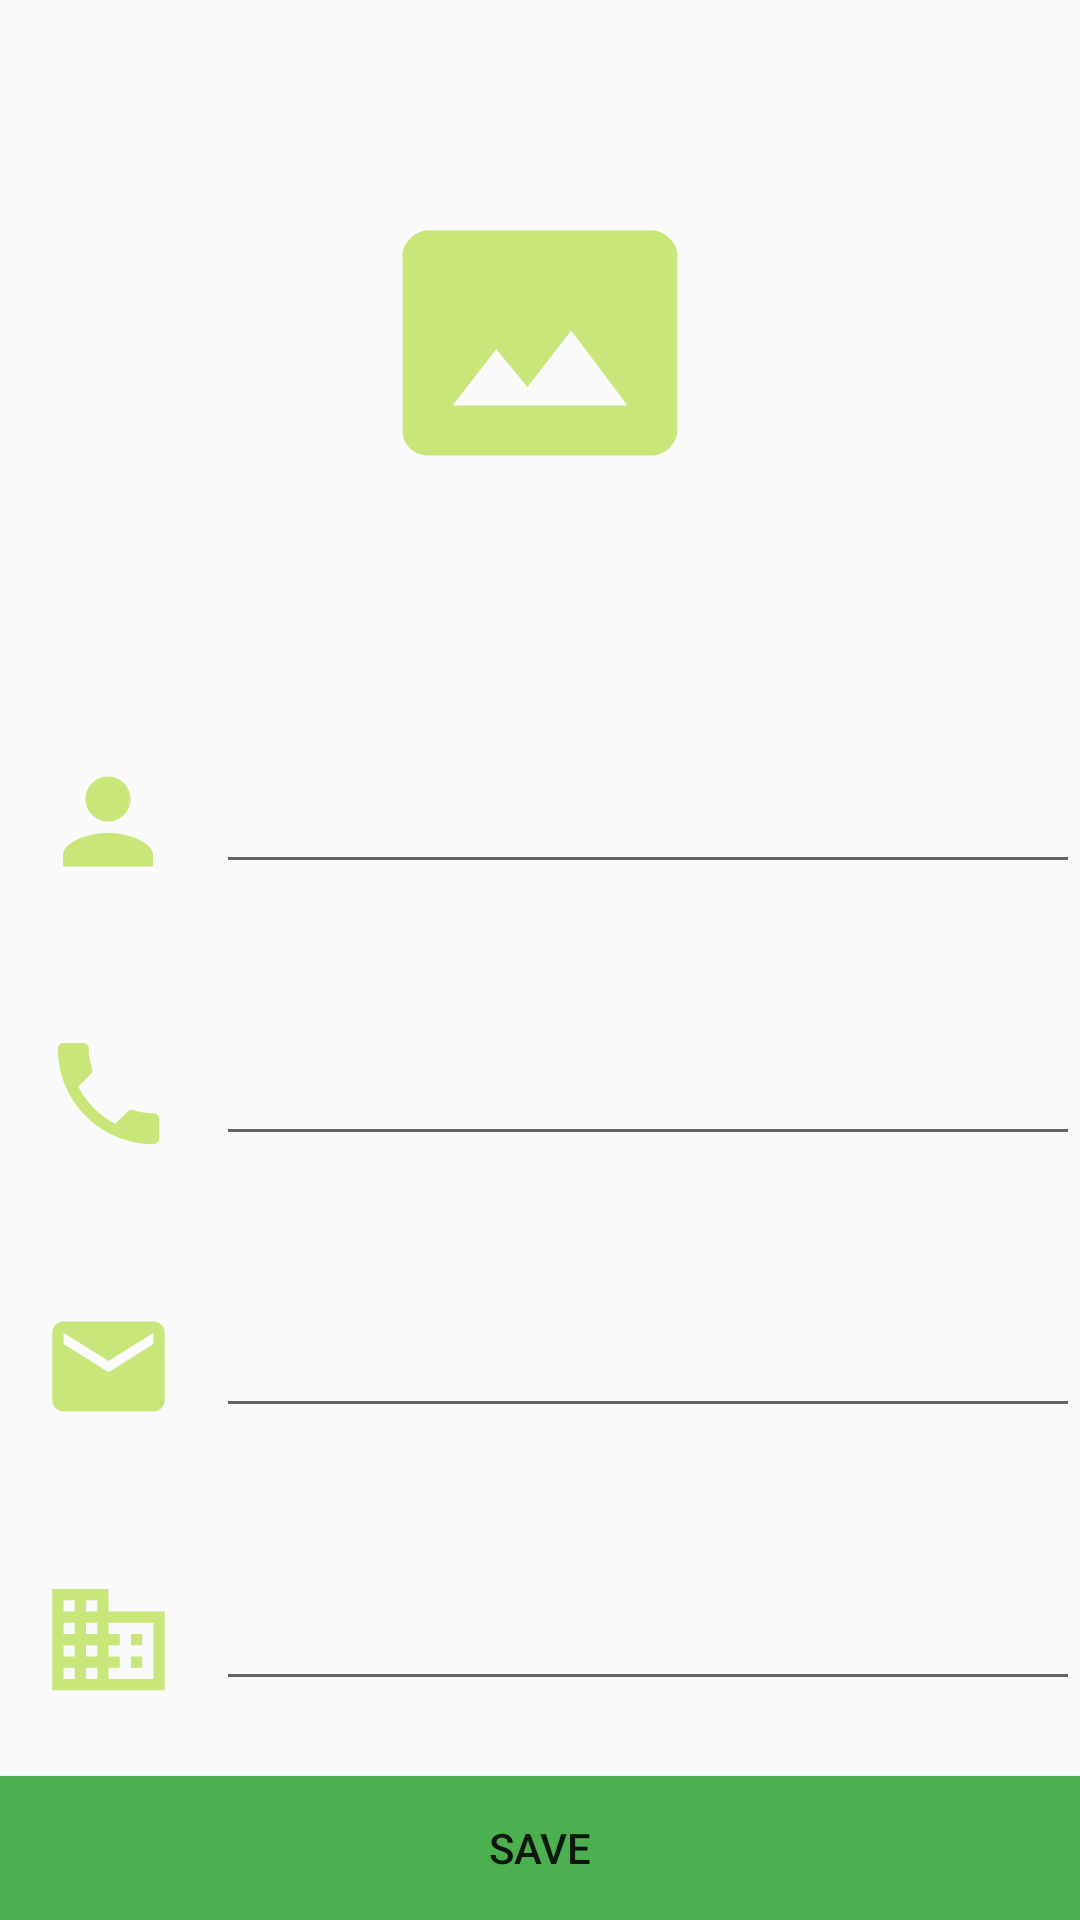

Screen size 1080px×1920px. Icon name, then its box in pixels as box(x1, y1, x2, y2):
address: box(52, 1589, 165, 1691)
email: box(52, 1321, 165, 1412)
person: box(63, 776, 153, 867)
phone: box(58, 1043, 159, 1145)
